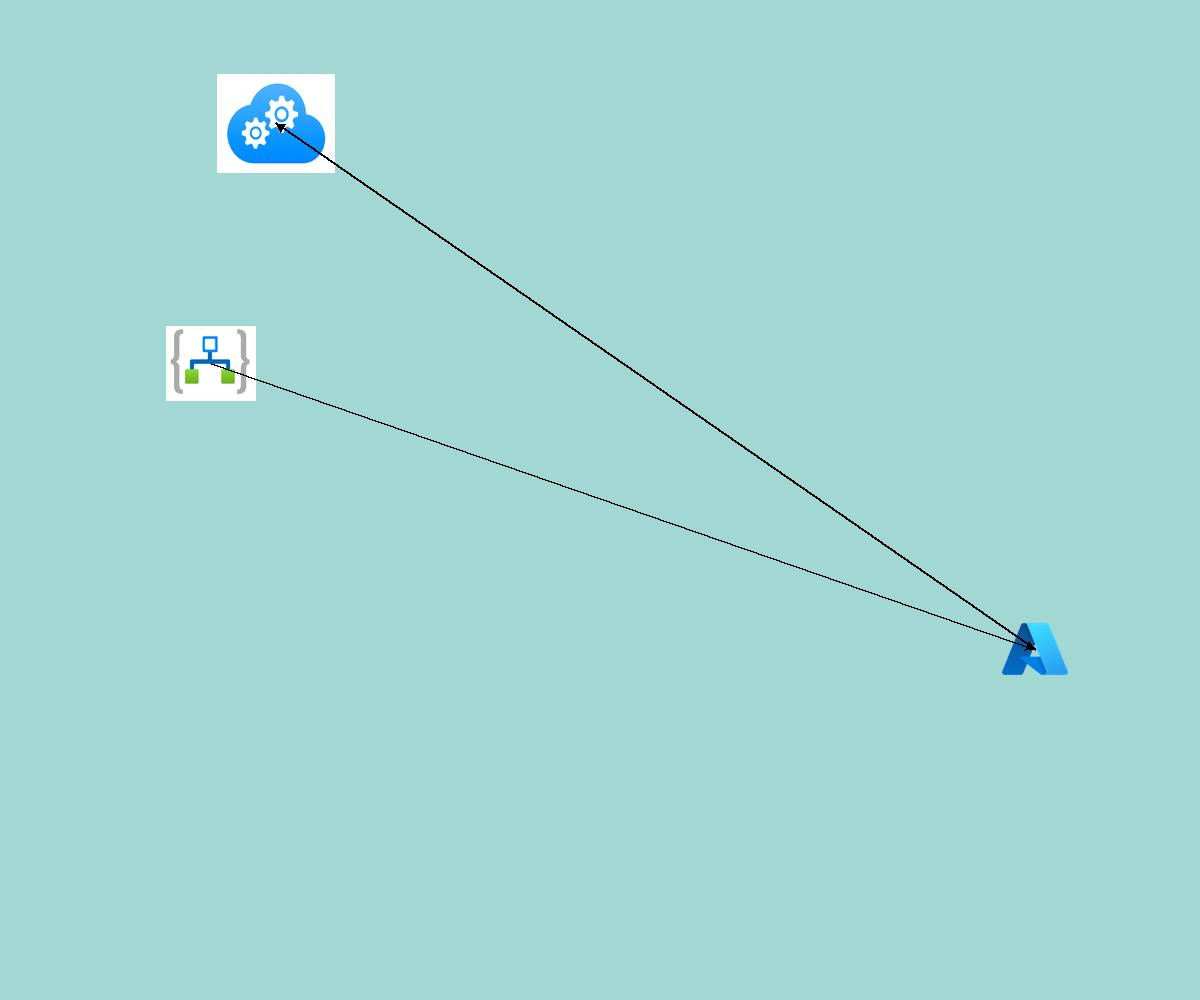Azure_cloud_services: (217, 74, 335, 173)
Azure_integration-204-Logic-Apps: (166, 326, 256, 401)
Azure_services: (999, 619, 1071, 679)
